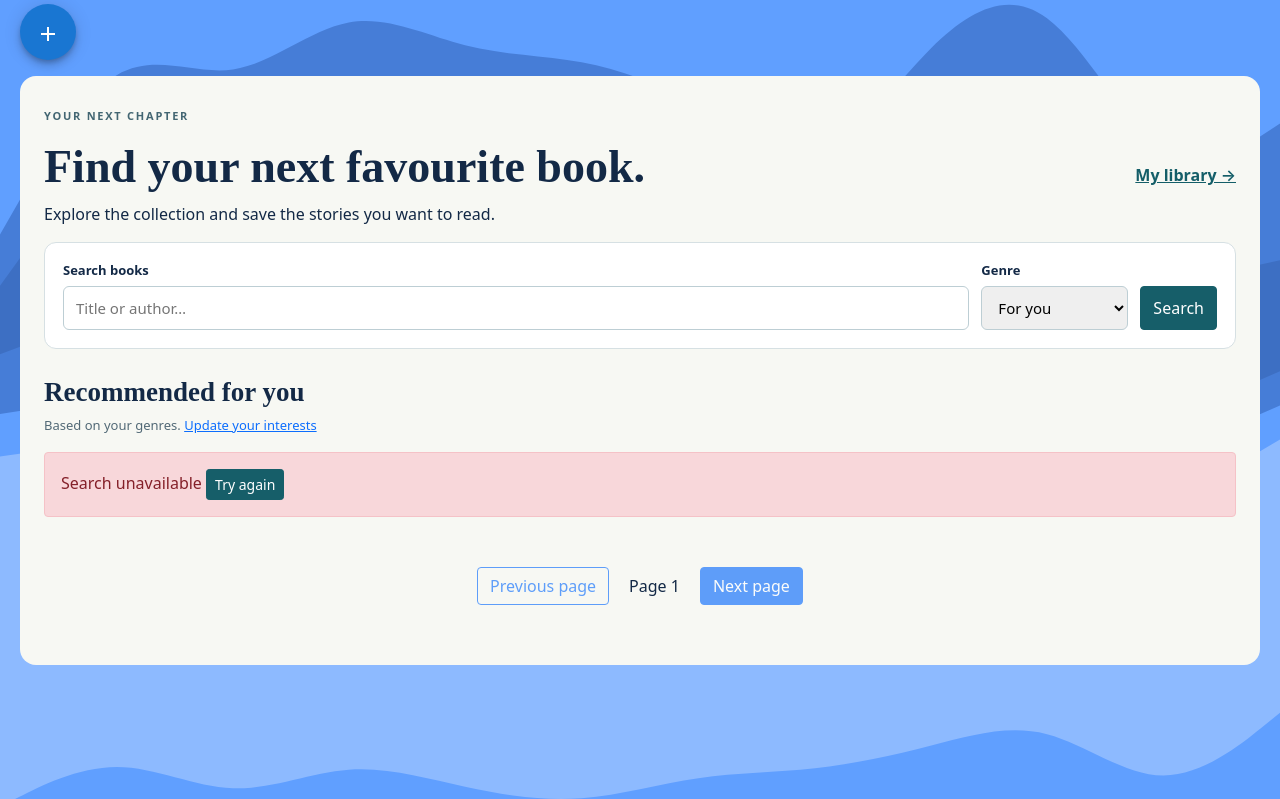
Test: failed recommendation offers recovery and failed accept keeps the book
The image size is (1280, 799).
Expected: the text "Search unavailable" is shown, [61, 472, 202, 494]
Click the button "Try again" at x=245, y=484, box [206, 469, 284, 500]
(page scrolled)
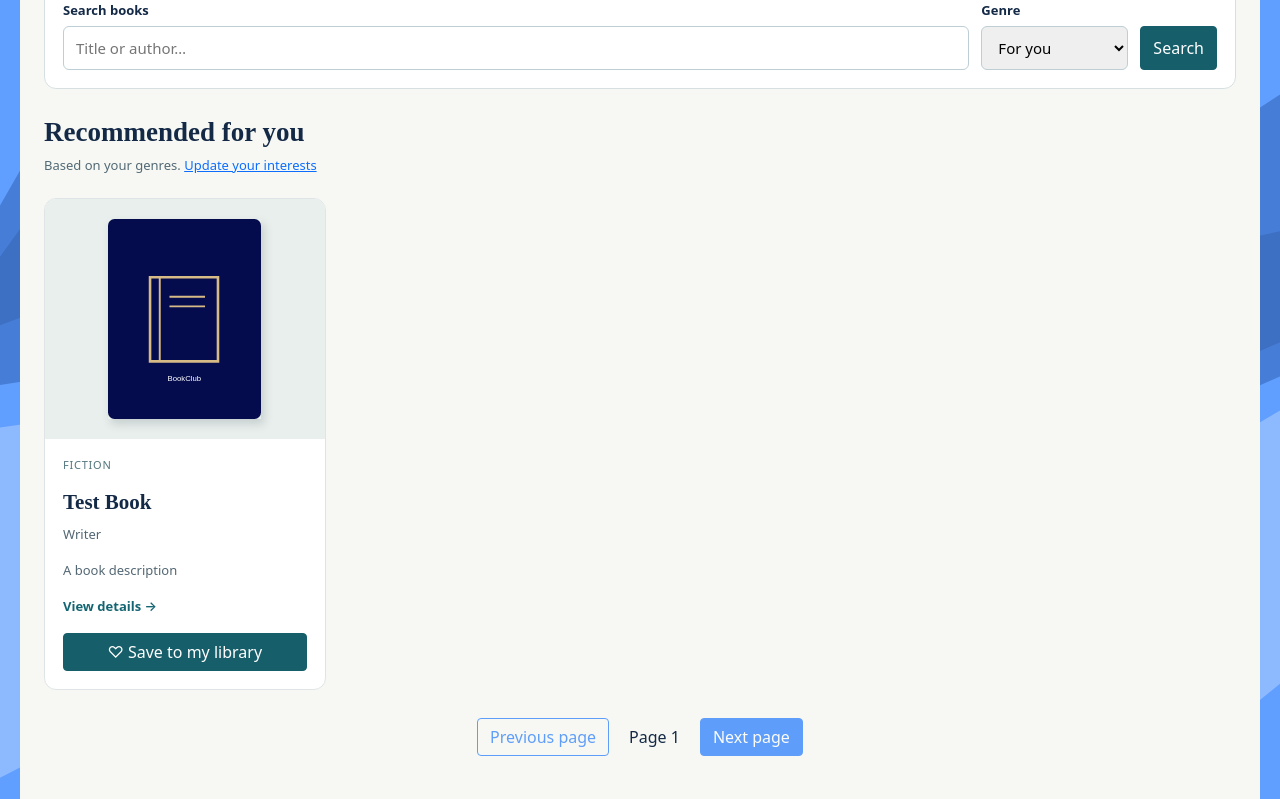
Result: the picture with alt text "Test Book" is shown at [108, 219, 261, 419]
Click the button "♡ Save to my library" at x=185, y=652, box [63, 633, 306, 671]
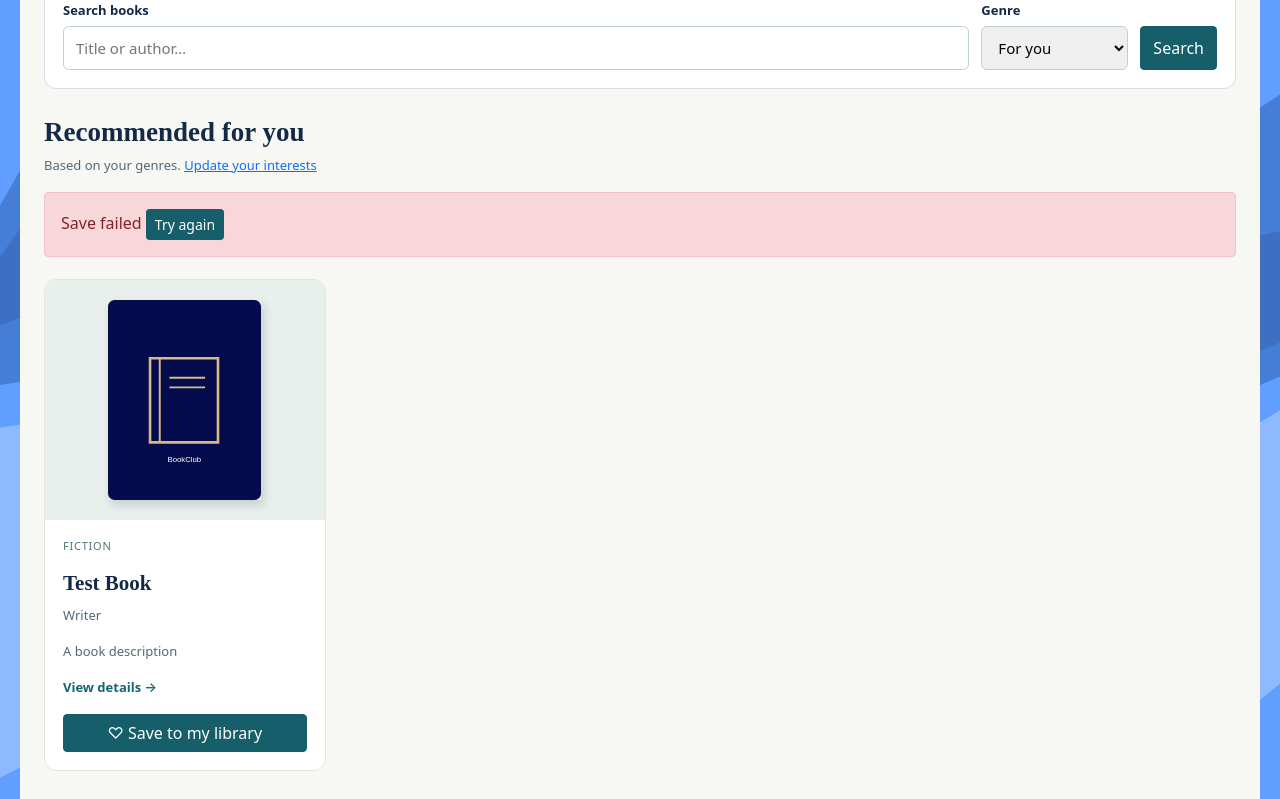
Result: the picture with alt text "Test Book" is shown at [108, 300, 261, 500]
Result: the text "Save failed" is shown at [61, 212, 142, 234]
